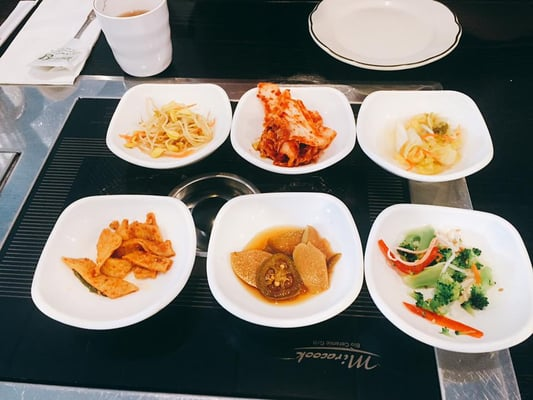curry: (404, 248, 485, 313)
sushi: (365, 204, 533, 356), (27, 195, 196, 329), (207, 192, 366, 328), (356, 89, 496, 183), (228, 85, 356, 176), (106, 81, 233, 170)
